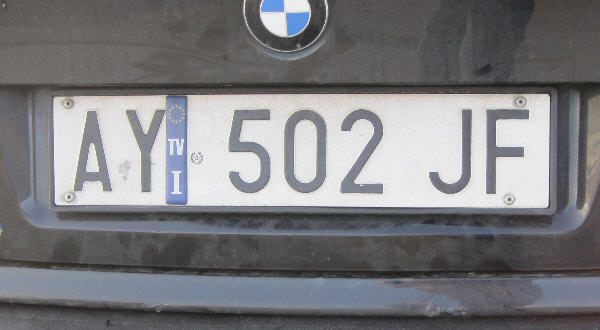license_plate: (51, 92, 556, 212)
